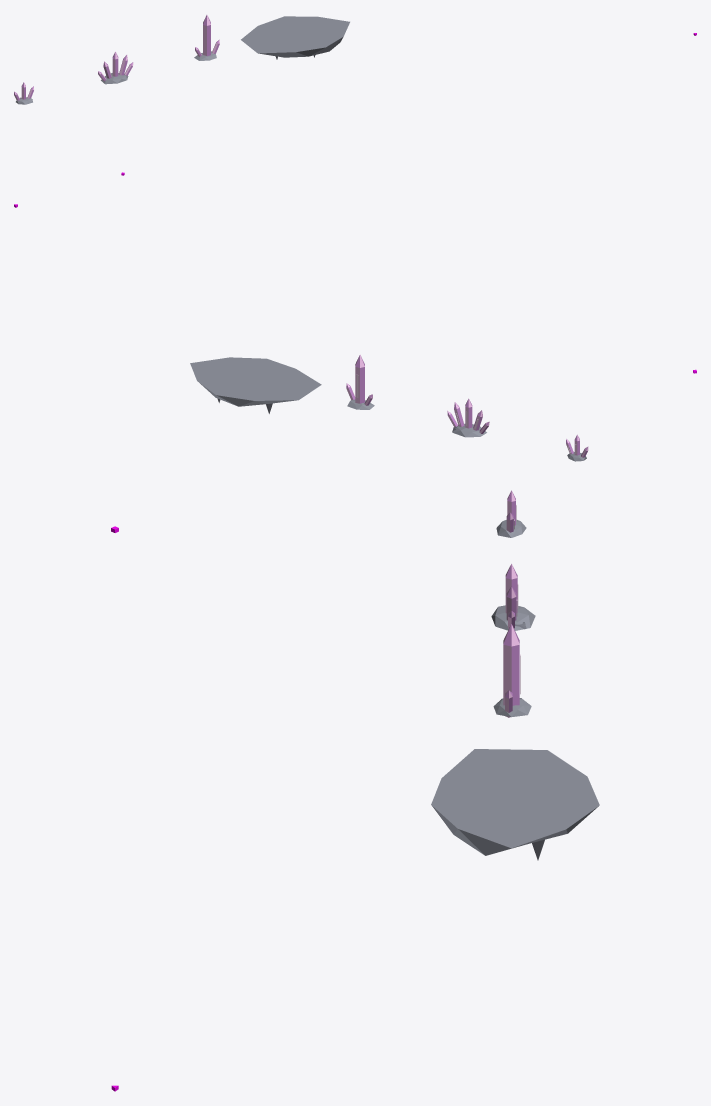
Rendered from GemKit.glb.
3 views of the same model, one above another, from view 1: azimuth 30°, elevation 25°; view 2: azimuth 150°, elevation 25°; view 3: azimuth 270°, elevation 25° (orthographic). The views are drawn at different scales.
Parts seen in each view (by area): view 1: CeilSlab_Rock, CrystalM_Shadow, CrystalM_Outer; view 2: CeilSlab_Rock; view 3: CeilSlab_Rock.
Part boxes in pixels (<box>): CeilSlab_Rock: <box>241,16,349,57</box>; CrystalM_Shadow: <box>98,52,132,80</box>; CrystalM_Outer: <box>98,51,133,81</box>; CeilSlab_Rock: <box>190,357,321,406</box>; CeilSlab_Rock: <box>431,749,599,855</box>.
Size of the model in its own units: 102 by 11.1 by 36.98.
